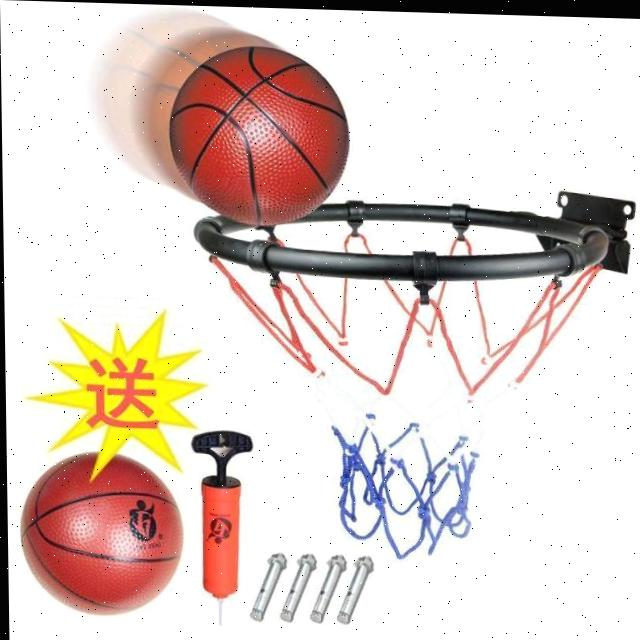Basketball: (21, 449, 185, 618)
rebound_hit: (169, 42, 352, 228)
